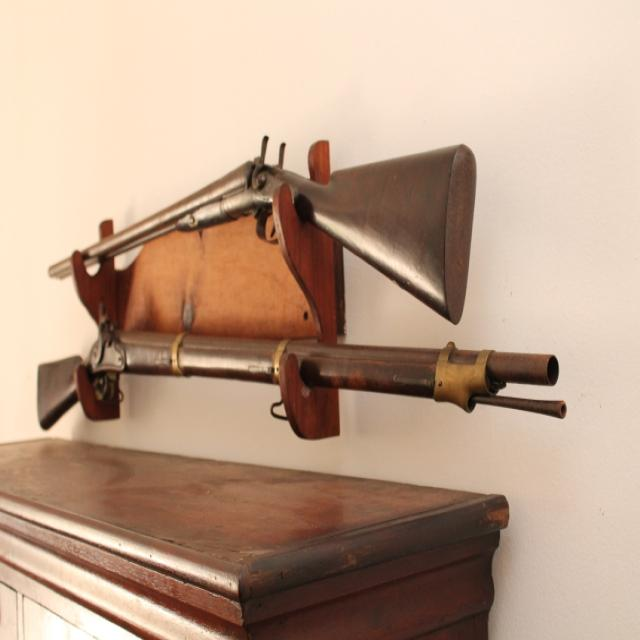ShotGun: (47, 144, 477, 325), (36, 323, 566, 430)
